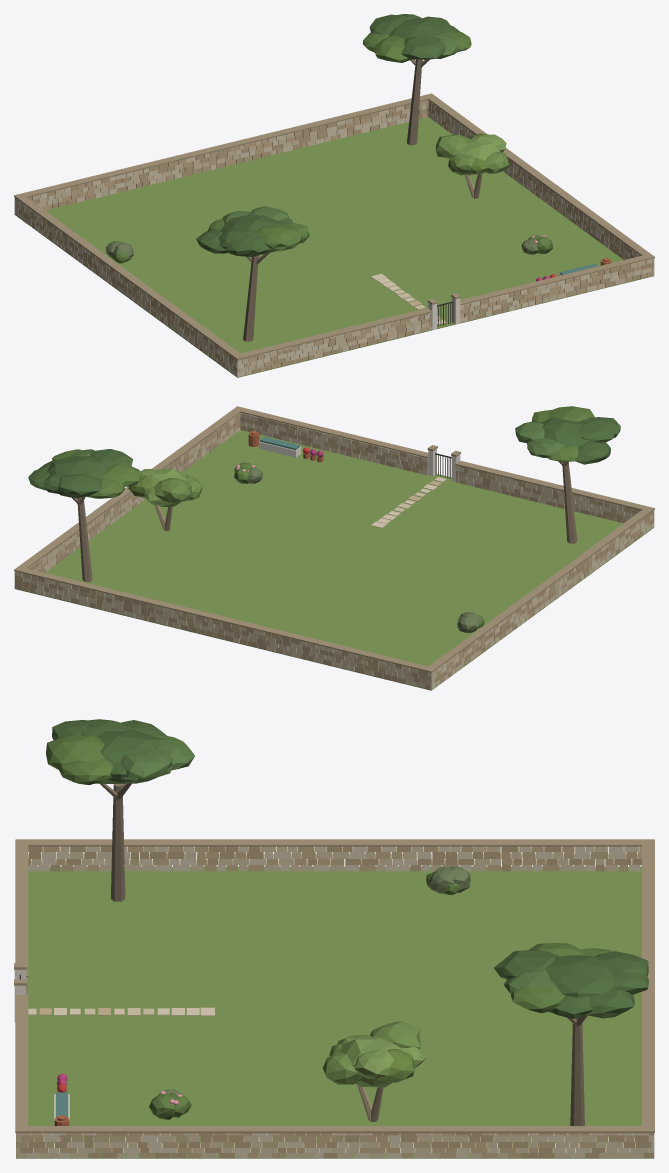
Rendered from bahce-arsasi-camli.glb.
3 views of the same model, one above another, from view 1: azimuth 30°, elevation 25°; view 2: azimuth 150°, elevation 25°; view 3: azimuth 270°, elevation 25° (orthographic). The views are drawn at different scales.
Visible parts, largest first — view 1: cim, tas_koyu, tas1, tas4, tas3, tas2, cam1, yaprak2, kabuk, yaprak1, cam2, yaprak3 (+1 smaller); view 2: cim, tas_koyu, tas1, tas4, tas3, tas2, cam1, yaprak2, kabuk, cam2, yaprak1, badana (+2 smaller); view 3: cim, tas_koyu, cam1, tas1, tas2, tas4, tas3, yaprak2, kabuk, cam2, yaprak3, yaprak1 (+2 smaller).
Boxes of the visible parts, bbox=[...] form: cim: bbox=[14, 117, 654, 377]; tas_koyu: bbox=[14, 93, 654, 359]; tas1: bbox=[14, 105, 654, 374]; tas4: bbox=[14, 100, 651, 377]; tas3: bbox=[18, 101, 653, 373]; tas2: bbox=[20, 100, 654, 371]; cam1: bbox=[196, 14, 459, 256]; yaprak2: bbox=[113, 30, 552, 263]; kabuk: bbox=[243, 59, 429, 341]; yaprak1: bbox=[435, 134, 509, 175]; cam2: bbox=[222, 32, 461, 223]; yaprak3: bbox=[458, 134, 506, 175]; cim: bbox=[14, 430, 654, 690]; tas_koyu: bbox=[14, 406, 654, 672]; tas1: bbox=[29, 413, 652, 687]; tas4: bbox=[14, 417, 654, 689]; tas3: bbox=[14, 417, 654, 689]; tas2: bbox=[15, 414, 644, 683]; cam1: bbox=[28, 417, 620, 498]; yaprak2: bbox=[52, 406, 594, 628]; kabuk: bbox=[72, 461, 577, 581]; cam2: bbox=[69, 422, 565, 457]; yaprak1: bbox=[154, 476, 202, 502]; badana: bbox=[259, 441, 460, 481]; cim: bbox=[16, 866, 654, 1158]; tas_koyu: bbox=[14, 839, 654, 1133]; cam1: bbox=[52, 719, 649, 1018]; tas1: bbox=[16, 846, 645, 1158]; tas2: bbox=[16, 846, 654, 1158]; tas4: bbox=[25, 846, 654, 1158]; tas3: bbox=[16, 846, 654, 1158]; yaprak2: bbox=[46, 734, 612, 1119]; kabuk: bbox=[100, 783, 587, 1125]; cam2: bbox=[120, 737, 554, 994]; yaprak3: bbox=[339, 1035, 426, 1087]; yaprak1: bbox=[322, 1021, 420, 1084].
Size of the model in its own units: 27.1 by 7.42 by 25.11.
